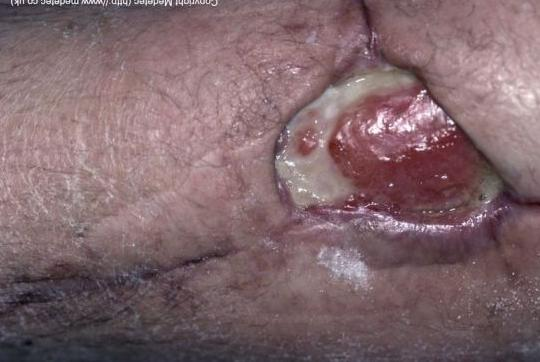NonPU: (248, 46, 526, 282)
